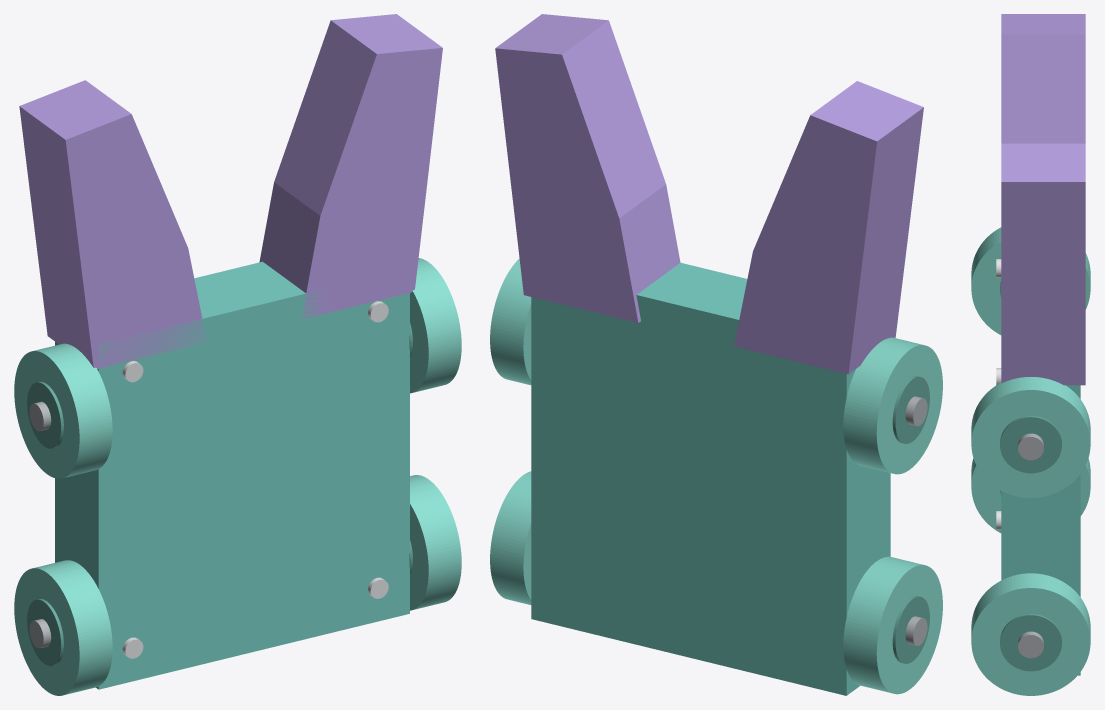
The model's file is do_you_dream_of_being_an_ambul.glb.
The picture shows the model from 3 angles, left to right: view 1: azimuth 30°, elevation 25°; view 2: azimuth 150°, elevation 25°; view 3: azimuth 270°, elevation 25°; orthographic projection. The views are drawn at different scales.
Parts seen in each view (by area): view 1: chassis, prong_l, prong_r, wheel_r0, wheel_r1, wheel_l0, wheel_l1, dt_hub_wheel_r1, dt_hub_wheel_r0; view 2: chassis, prong_l, prong_r, wheel_r0, wheel_r1, wheel_l0, wheel_l1, dt_hub_wheel_r1, dt_hub_wheel_r0; view 3: prong_l, prong_r, wheel_l0, wheel_l1, chassis, wheel_r1, dt_hub_wheel_l1, dt_hub_wheel_l0, wheel_r0, dt_nut_wheel_l0, dt_nut_wheel_l1.
Part boxes in pixels (bbox=[...]): chassis: bbox=[55, 261, 409, 689]; prong_l: bbox=[259, 14, 442, 318]; prong_r: bbox=[19, 80, 206, 368]; wheel_r0: bbox=[14, 560, 112, 695]; wheel_r1: bbox=[14, 343, 112, 478]; wheel_l0: bbox=[410, 475, 461, 610]; wheel_l1: bbox=[410, 258, 461, 393]; dt_hub_wheel_r1: bbox=[27, 381, 63, 448]; dt_hub_wheel_r0: bbox=[27, 599, 63, 665]; chassis: bbox=[531, 262, 890, 695]; prong_l: bbox=[495, 14, 680, 322]; prong_r: bbox=[734, 81, 923, 374]; wheel_r0: bbox=[843, 556, 942, 694]; wheel_r1: bbox=[843, 337, 942, 474]; wheel_l0: bbox=[490, 471, 531, 604]; wheel_l1: bbox=[490, 258, 531, 385]; dt_hub_wheel_r1: bbox=[892, 376, 929, 443]; dt_hub_wheel_r0: bbox=[892, 596, 929, 663]; prong_l: bbox=[1001, 143, 1085, 385]; prong_r: bbox=[1001, 14, 1085, 143]; wheel_l0: bbox=[971, 573, 1090, 695]; wheel_l1: bbox=[971, 377, 1090, 497]; chassis: bbox=[1001, 385, 1080, 675]; wheel_r1: bbox=[971, 227, 1090, 334]; dt_hub_wheel_l1: bbox=[1000, 416, 1061, 473]; dt_hub_wheel_l0: bbox=[1000, 614, 1061, 671]; wheel_r0: bbox=[971, 458, 1090, 532]; dt_nut_wheel_l0: bbox=[1018, 631, 1043, 658]; dt_nut_wheel_l1: bbox=[1018, 433, 1043, 460].
Size of the model in its own units: 85.4 by 116 by 24.
